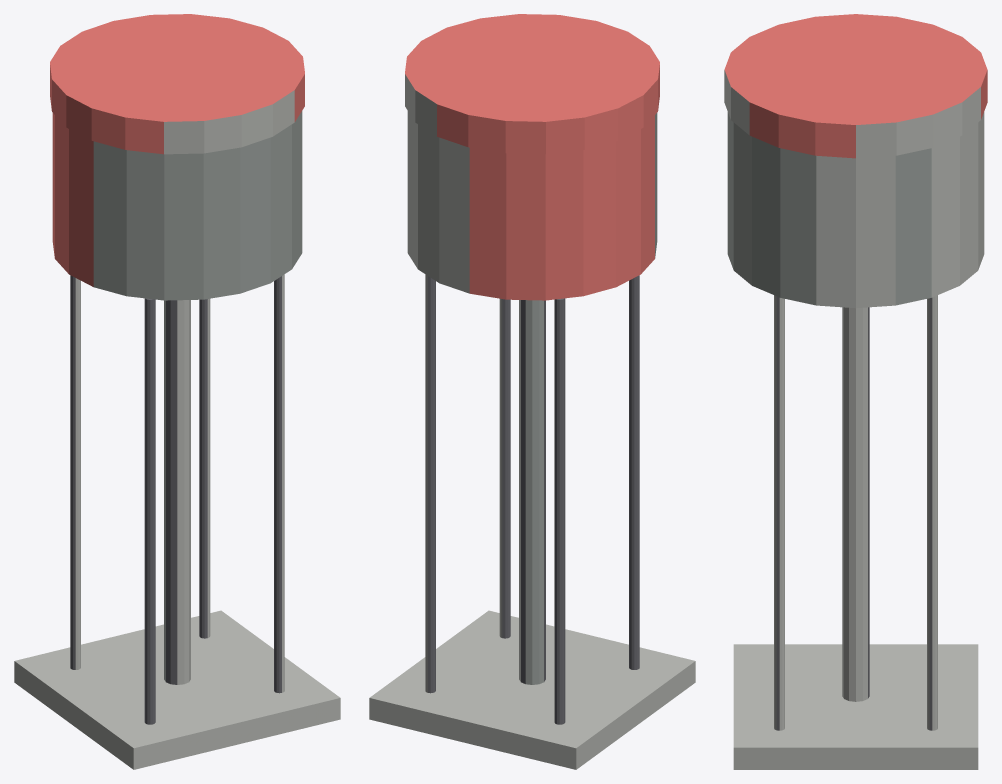
File: water_tower_lattice_steel.glb
The picture shows the model from 3 angles, left to right: view 1: azimuth 30°, elevation 25°; view 2: azimuth 150°, elevation 25°; view 3: azimuth 270°, elevation 25°; orthographic projection. The views are drawn at different scales.
Parts seen in each view (by area): view 1: water_tower_lattice_steel; view 2: water_tower_lattice_steel; view 3: water_tower_lattice_steel.
Boxes of the visible parts, box(x1,y1,x2,y2) form: water_tower_lattice_steel: box(14, 14, 340, 769); water_tower_lattice_steel: box(369, 14, 695, 769); water_tower_lattice_steel: box(724, 14, 987, 769).
Size of the model in its own units: 8.6 by 23.4 by 8.6.
